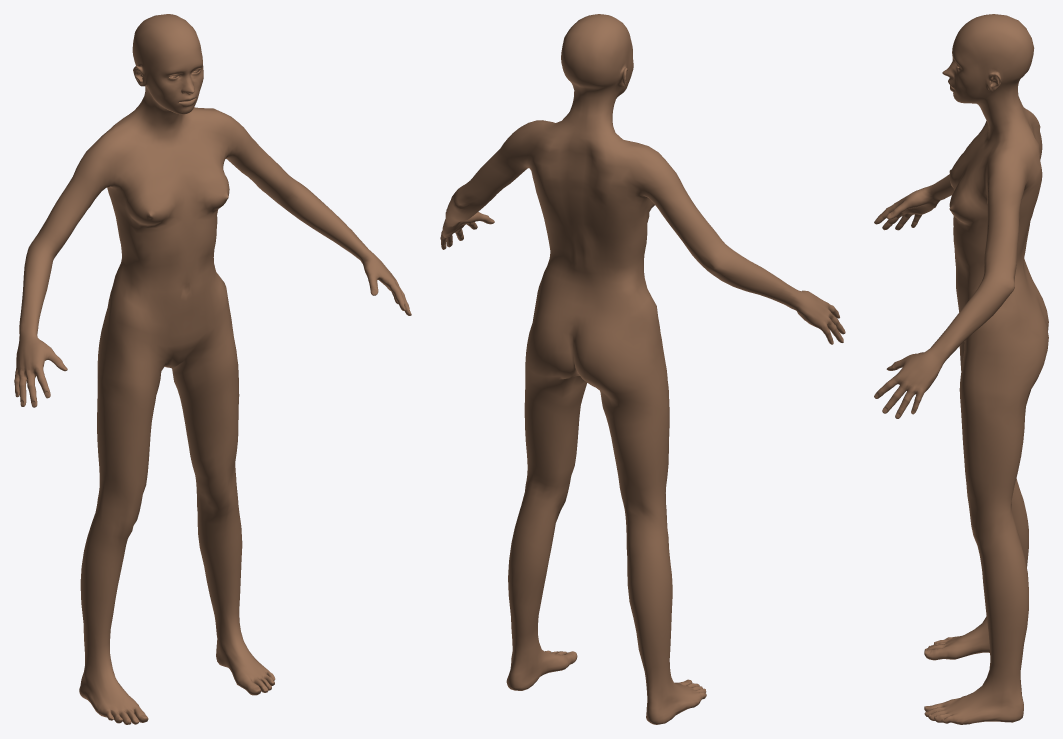
3 renders of one model, left to right at view 1: azimuth 30°, elevation 25°; view 2: azimuth 150°, elevation 25°; view 3: azimuth 270°, elevation 25°, orthographic.
Visible parts, largest first — view 1: base.obj; view 2: base.obj; view 3: base.obj.
Boxes of the visible parts, bbox=[...] form: base.obj: bbox=[14, 14, 411, 724]; base.obj: bbox=[440, 14, 845, 724]; base.obj: bbox=[874, 14, 1048, 724].
Size of the model in its own units: 10.96 by 18 by 4.26.
